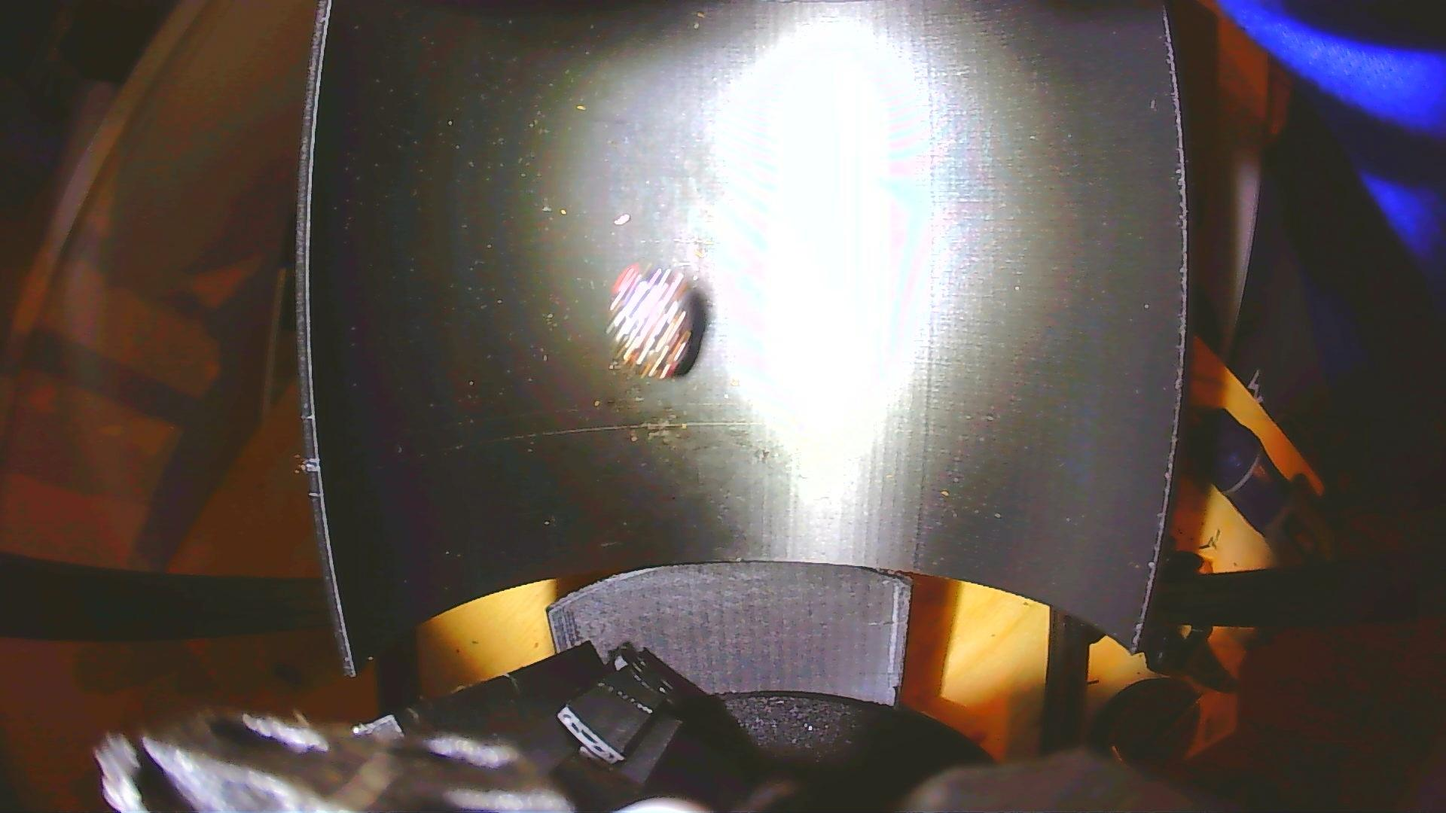berry: (607, 263, 703, 379)
